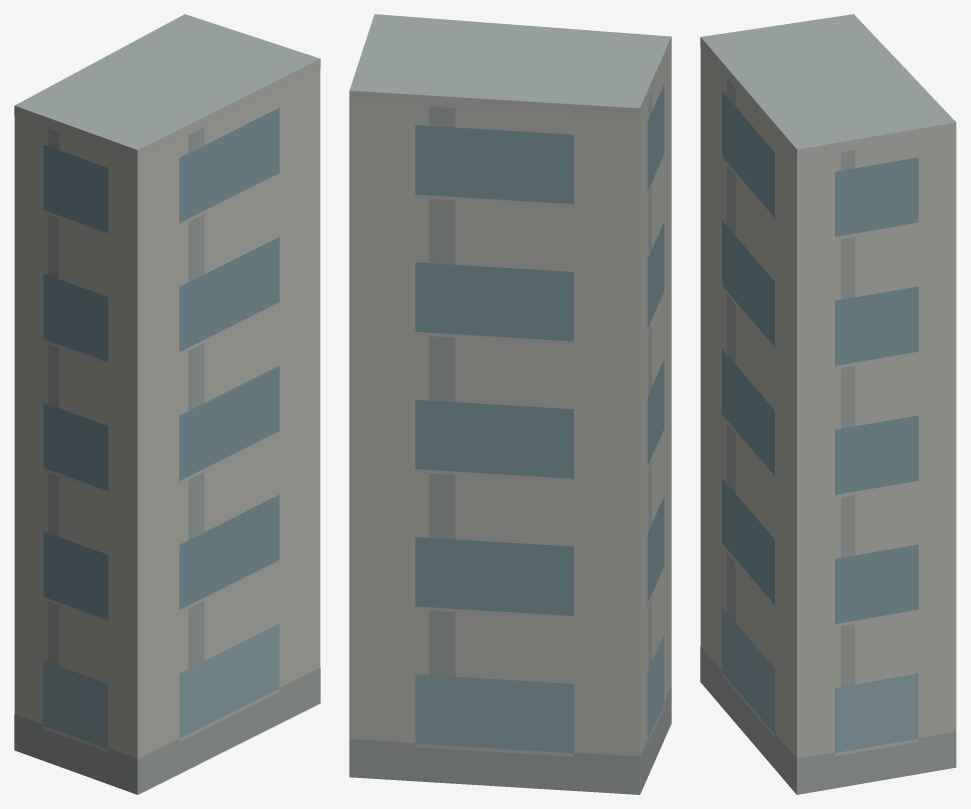
Rendered from survey-upis-32834291.glb.
The picture shows the model from 3 angles, left to right: view 1: azimuth 30°, elevation 25°; view 2: azimuth 150°, elevation 25°; view 3: azimuth 270°, elevation 25°; orthographic projection. The views are drawn at different scales.
Parts seen in each view (by area): view 1: survey-upis-32834291.tmp; view 2: survey-upis-32834291.tmp; view 3: survey-upis-32834291.tmp.
Part boxes in pixels (x1,y1,x2,y2): survey-upis-32834291.tmp: (14,14,320,794); survey-upis-32834291.tmp: (349,14,671,794); survey-upis-32834291.tmp: (700,14,956,794).
Size of the model in its own units: 6.88 by 15.25 by 5.49.
